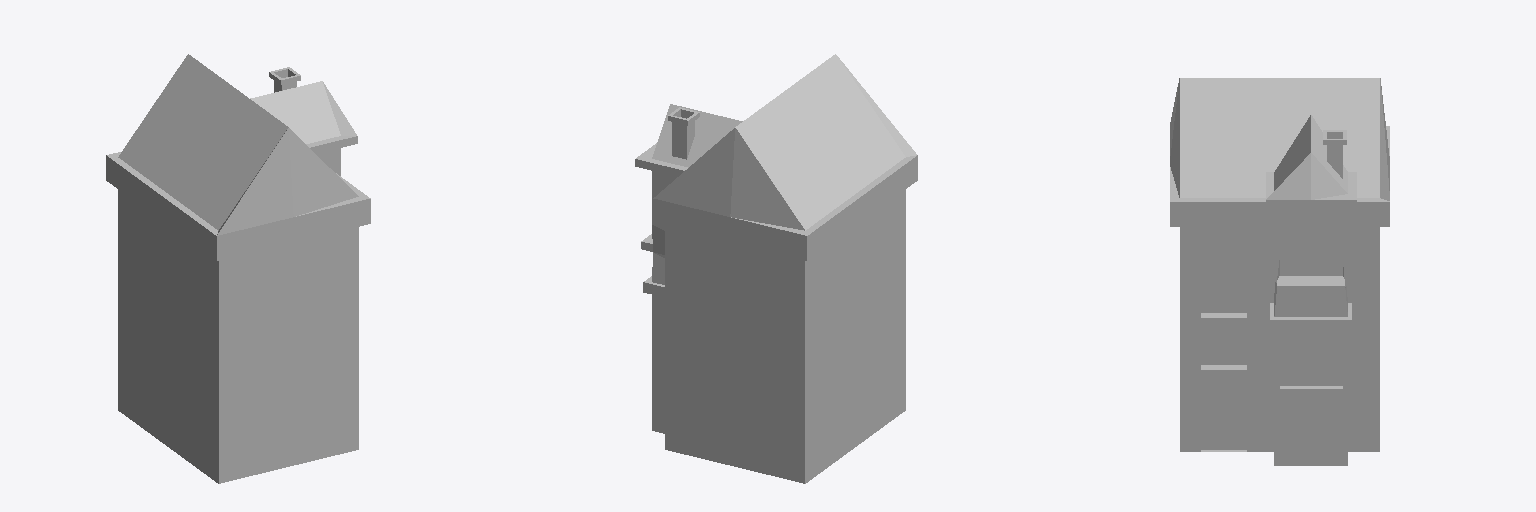
File: small_house_1.obj
3 views of the same model, side by side, from view 1: azimuth 30°, elevation 25°; view 2: azimuth 150°, elevation 25°; view 3: azimuth 270°, elevation 25° (orthographic).
Parts seen in each view (by area): view 1: House2; view 2: House2; view 3: House2.
Boxes of the visible parts, x1=… form: House2: x1=106, y1=54, x2=370, y2=483; House2: x1=635, y1=54, x2=917, y2=483; House2: x1=1170, y1=78, x2=1389, y2=465.
Size of the model in its own units: 3.54 by 6.08 by 3.58.